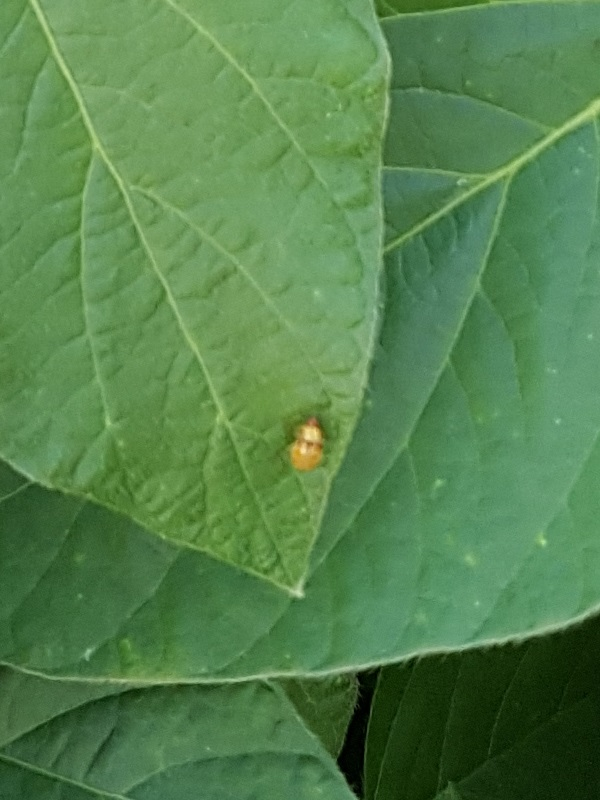Diabrotica_speciosa: (278, 409, 341, 486)
